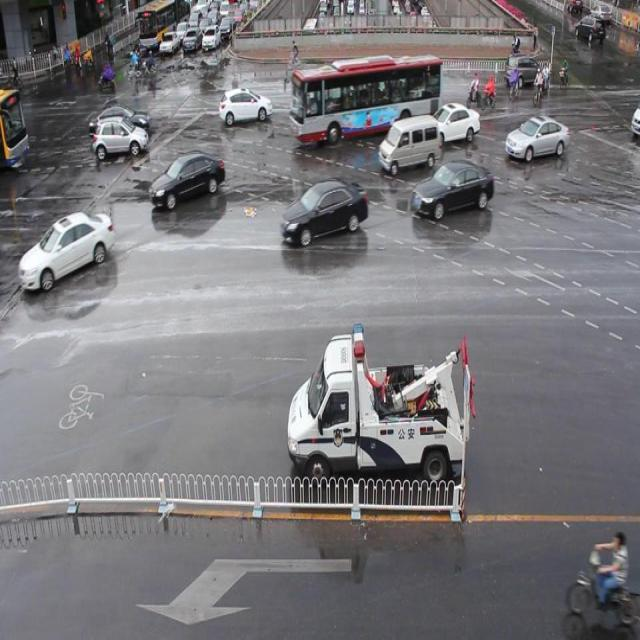car: (285, 319, 476, 519), (287, 59, 452, 135), (14, 199, 115, 298), (282, 166, 366, 257), (411, 153, 500, 237), (147, 154, 233, 213), (375, 106, 442, 180), (512, 111, 580, 173), (0, 77, 33, 180), (212, 81, 276, 134), (92, 116, 152, 167), (133, 0, 177, 55), (434, 96, 479, 148), (508, 49, 547, 103), (572, 14, 606, 52), (198, 22, 227, 56), (154, 27, 182, 56), (184, 22, 202, 54)
